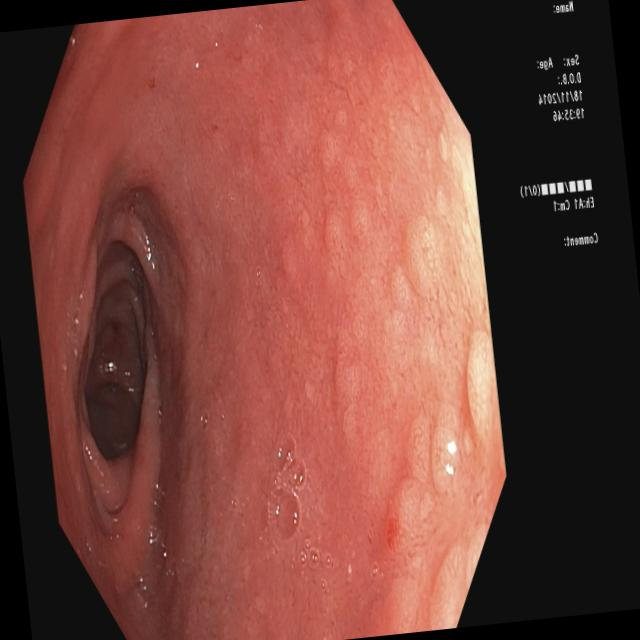ulcerative-colities: (336, 107, 508, 627)
